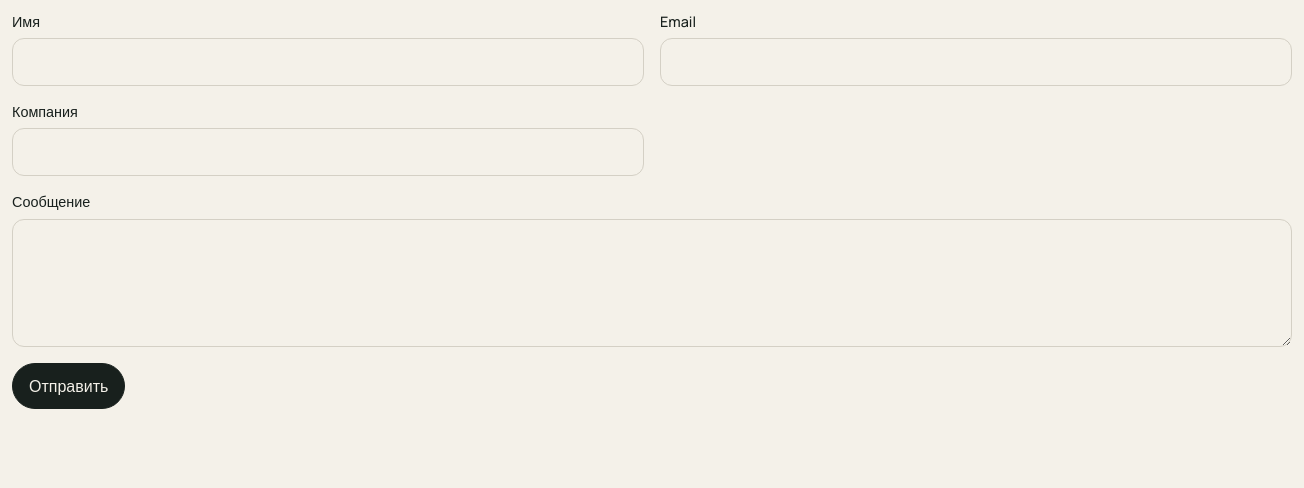
Форма обращения › отправляет корректные variables, очищает форму и переводит focus на результат
The image size is (1304, 488).
Type "Michael Ershov" into the field labelled "Имя". click: [328, 62]
box: [12,38,644,86]
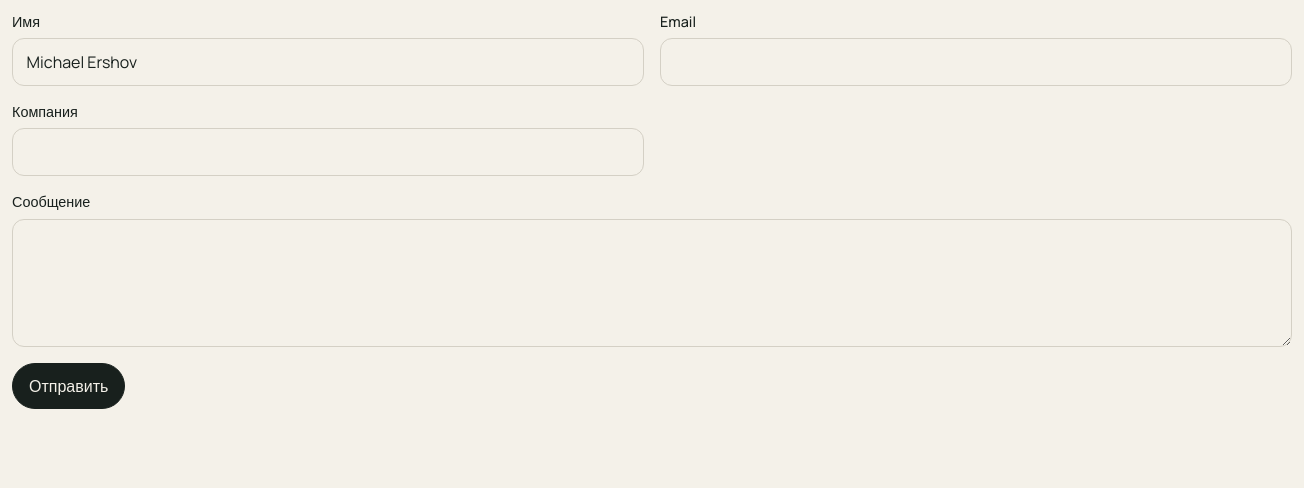
Type "michael@example.com" into the field labelled "Email". click: [976, 62]
box: [660,38,1292,86]
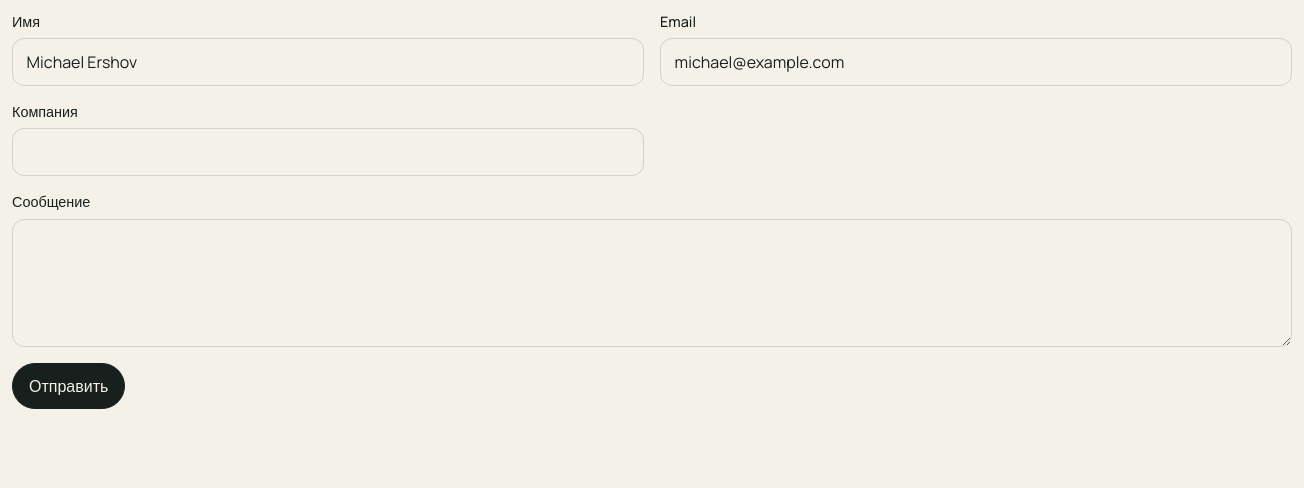
Type "Example" into the field labelled "Компания". click: [328, 152]
box: [12,128,644,176]
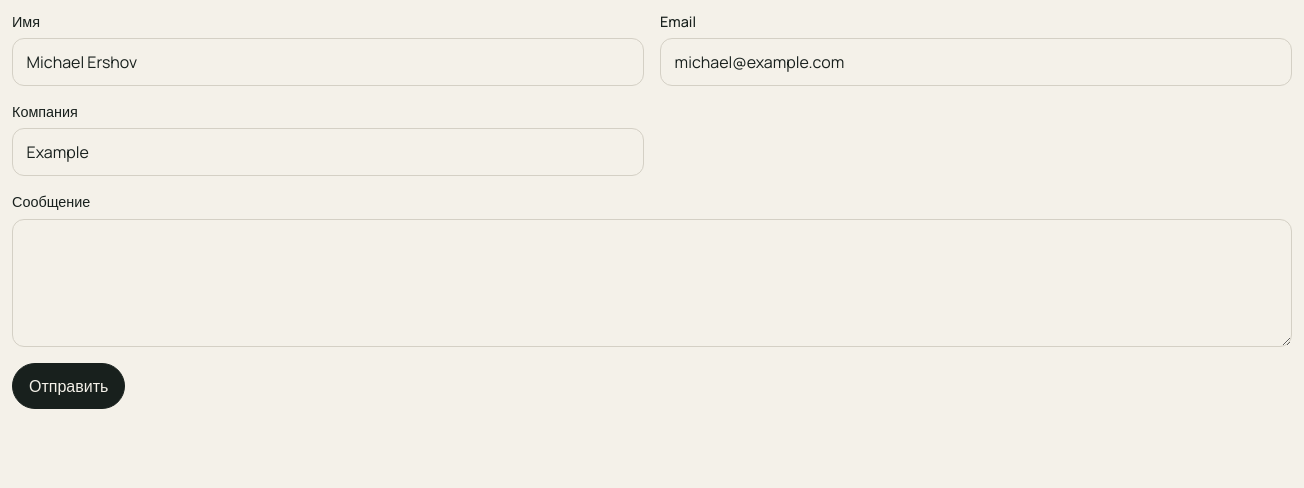
Type "Предлагаю обсудить сотрудничество." into the text box labelled "Сообщение". click: [652, 283]
box: [12,219,1292,347]
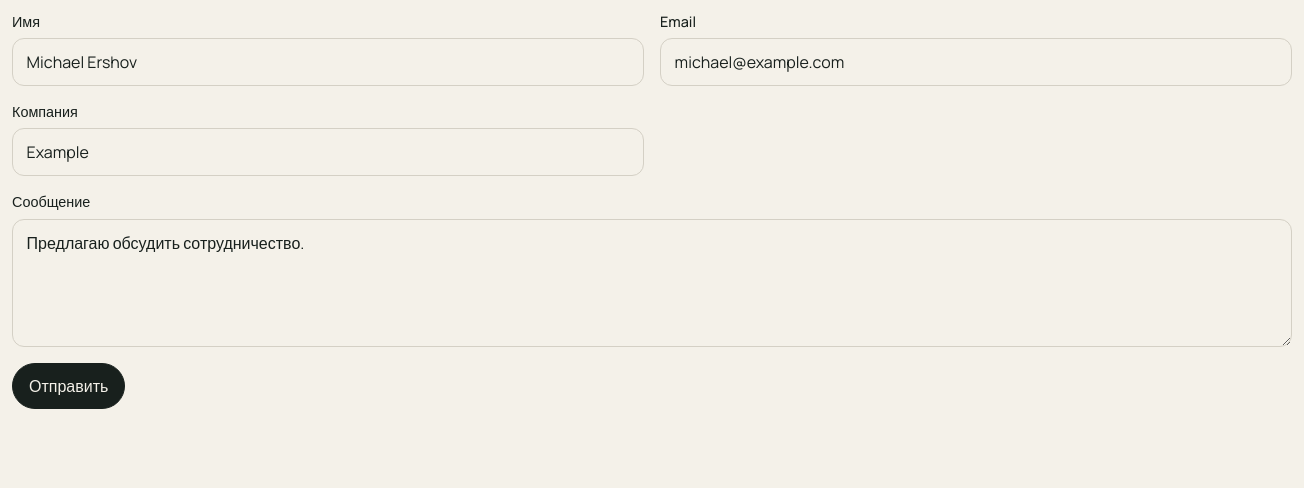
Submit the form "Отправить"
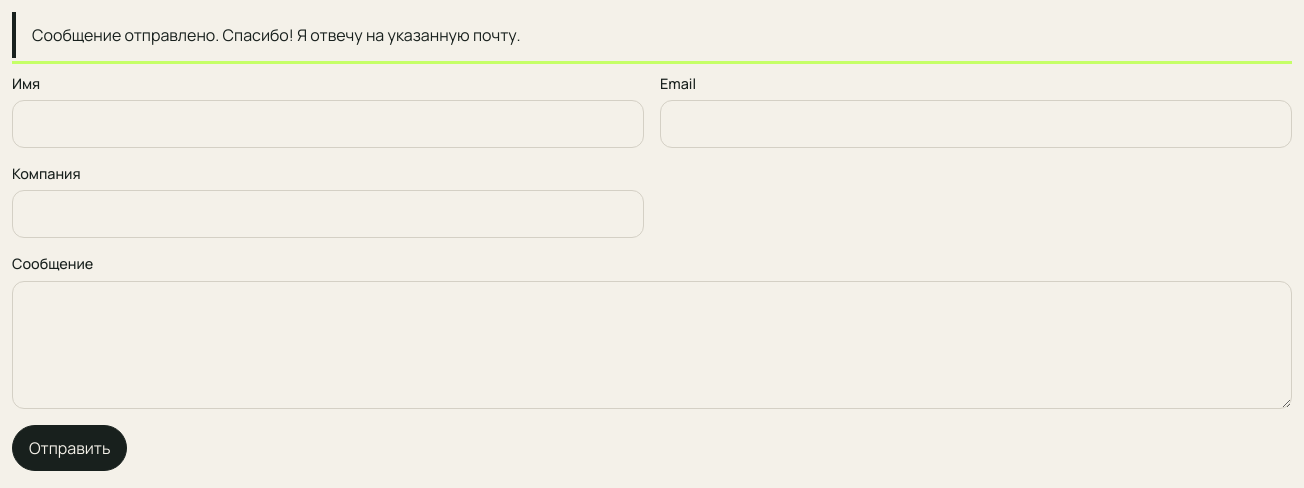
Expected: the message shows "Сообщение отправлено.", [32,24,521,46]
Expected: the field labelled "Имя" is empty, [12,100,644,148]
Expected: the text box labelled "Сообщение" is empty, [12,281,1292,409]
